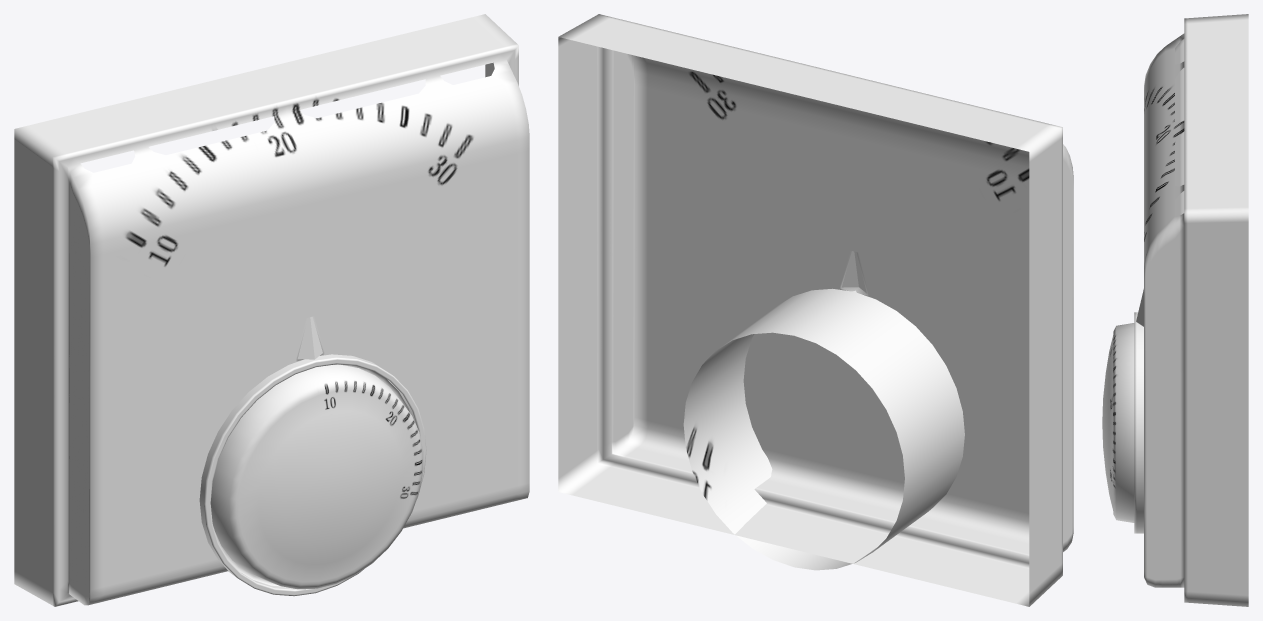
File: Thermostat.fbx
3 renders of one model, left to right at view 1: azimuth 30°, elevation 25°; view 2: azimuth 150°, elevation 25°; view 3: azimuth 270°, elevation 25°, orthographic. The views are drawn at different scales.
Parts seen in each view (by area): view 1: Case_LOD0, Dial; view 2: Case_LOD0; view 3: Case_LOD0, Dial.
Boxes of the visible parts, x1,y1,x2,y2 form: Case_LOD0: (14, 14, 529, 606); Dial: (210, 364, 423, 589); Case_LOD0: (558, 14, 1073, 606); Case_LOD0: (1134, 14, 1248, 606); Dial: (1102, 323, 1134, 522).
Size of what is drawn, in the model's own units: 240 by 230 by 74.51.
